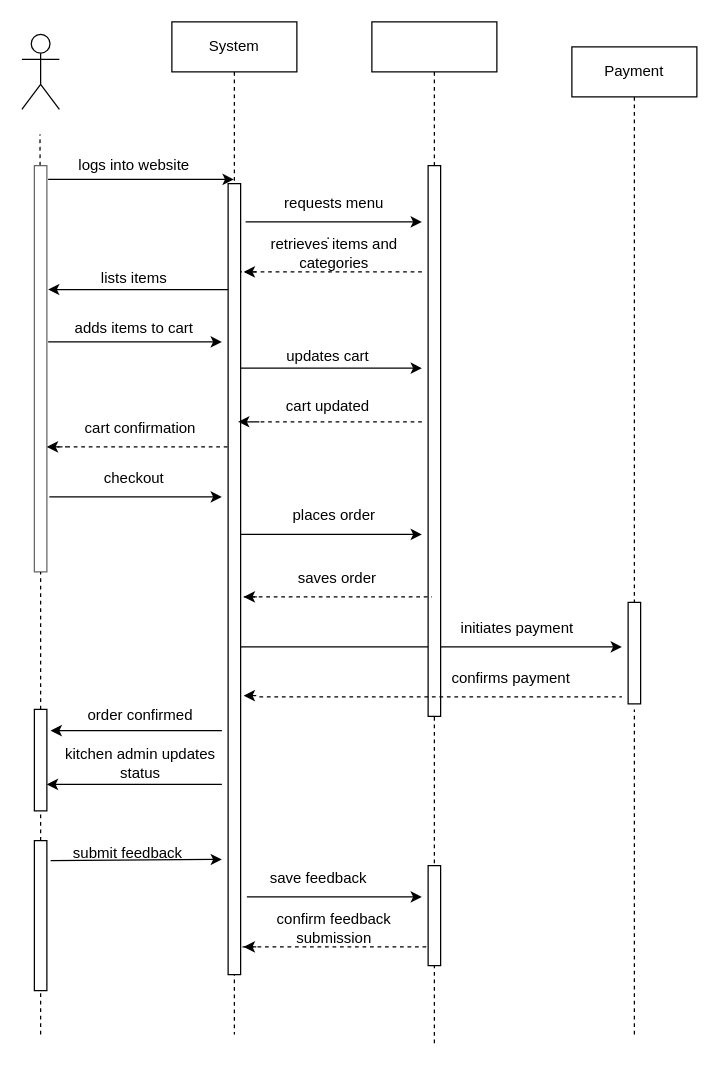
This 719x1069 diagram has some shape labels left out. Each missing label, with the box of its shape:
Actor: (21, 33, 59, 109)
Database: (371, 21, 497, 1047)
